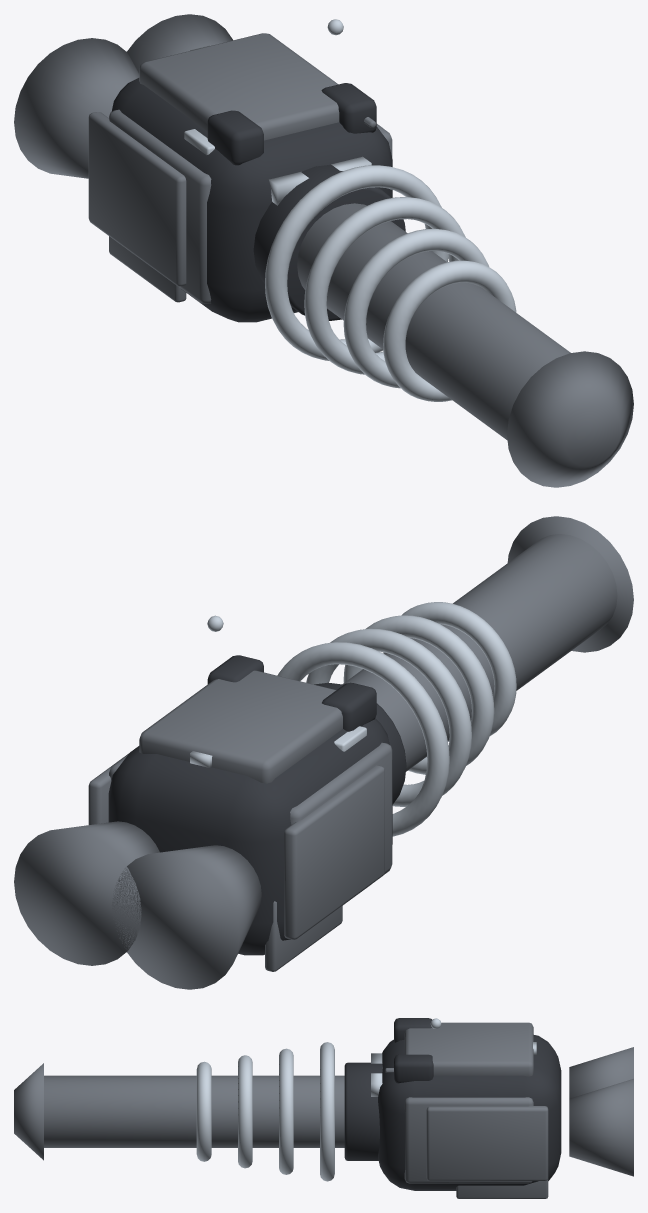
Rendered from weapon_drone_omega_rep.glb.
The picture shows the model from 3 angles, top to bottom: view 1: azimuth 30°, elevation 25°; view 2: azimuth 150°, elevation 25°; view 3: azimuth 270°, elevation 25°; orthographic projection. The views are drawn at different scales.
Parts seen in each view (by area): view 1: weapon_drone_omega_rep; view 2: weapon_drone_omega_rep; view 3: weapon_drone_omega_rep.
Boxes of the visible parts, x1,y1,x2,y2 form: weapon_drone_omega_rep: (14, 14, 633, 487); weapon_drone_omega_rep: (14, 516, 633, 989); weapon_drone_omega_rep: (14, 1018, 633, 1198).
Size of the model in its own units: 0.696 by 0.78 by 2.49.
